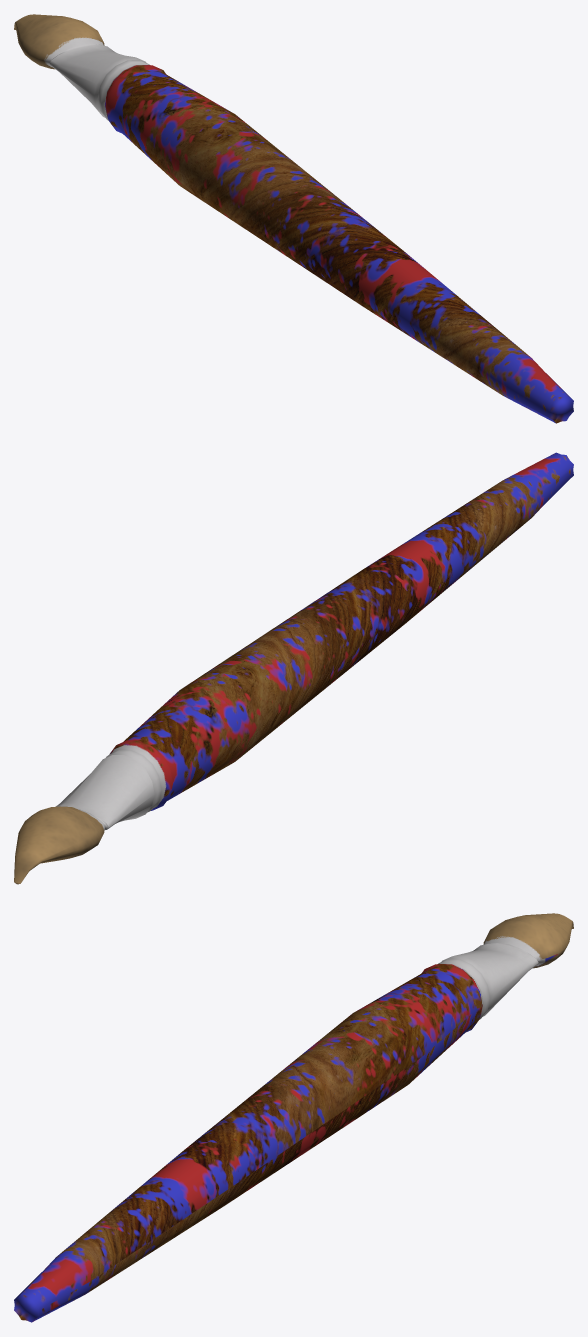
Rendered from Paintbrush.fbx.
The picture shows the model from 3 angles, top to bottom: view 1: azimuth 30°, elevation 25°; view 2: azimuth 150°, elevation 25°; view 3: azimuth 330°, elevation 25°; orthographic projection.
Parts seen in each view (by area): view 1: Paintbrush; view 2: Paintbrush; view 3: Paintbrush.
Part boxes in pixels (x1=…): Paintbrush: x1=14, y1=14, x2=573, y2=423; Paintbrush: x1=14, y1=452, x2=573, y2=884; Paintbrush: x1=14, y1=913, x2=573, y2=1322.
Bounding box in the file's own units: 2.5 × 2.5 × 30.
1 material, 1 textured.
